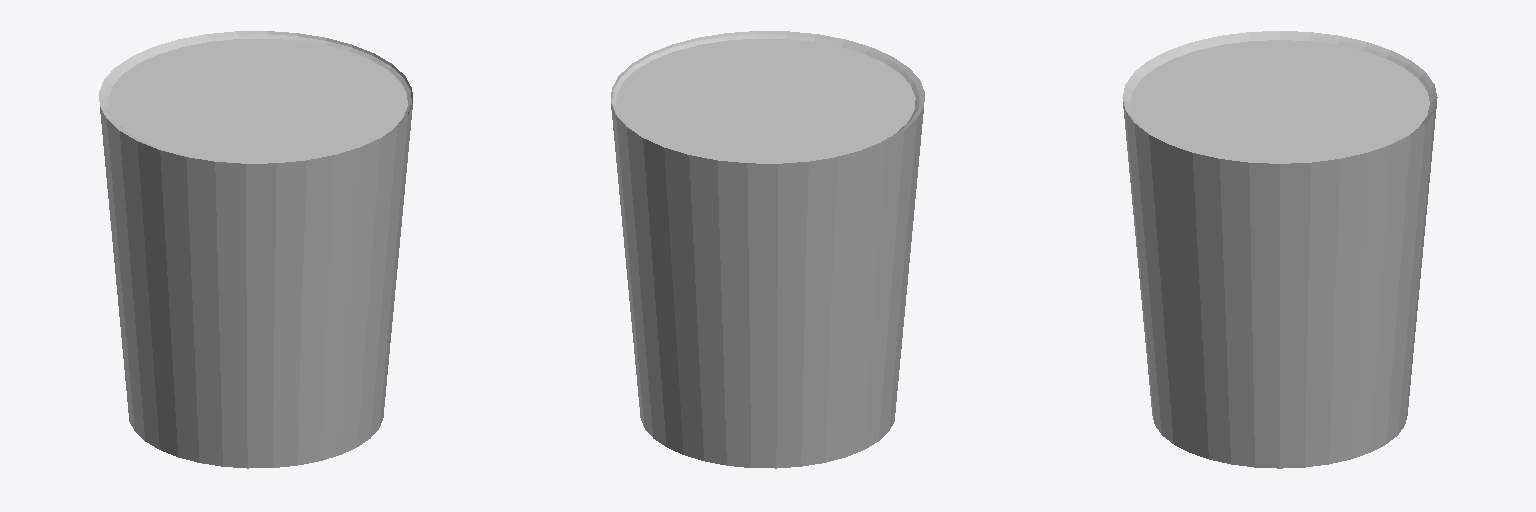
Rendered from Milk_Cylinder.004.obj.
3 views of the same model, side by side, from view 1: azimuth 30°, elevation 25°; view 2: azimuth 150°, elevation 25°; view 3: azimuth 270°, elevation 25° (orthographic).
Parts seen in each view (by area): view 1: Milk_Cylinder.004; view 2: Milk_Cylinder.004; view 3: Milk_Cylinder.004.
Boxes of the visible parts, x1,y1,x2,y2 form: Milk_Cylinder.004: [99, 31, 412, 468]; Milk_Cylinder.004: [611, 31, 924, 468]; Milk_Cylinder.004: [1122, 31, 1437, 468].
Size of the model in its own units: 1.78 by 1.98 by 1.78.